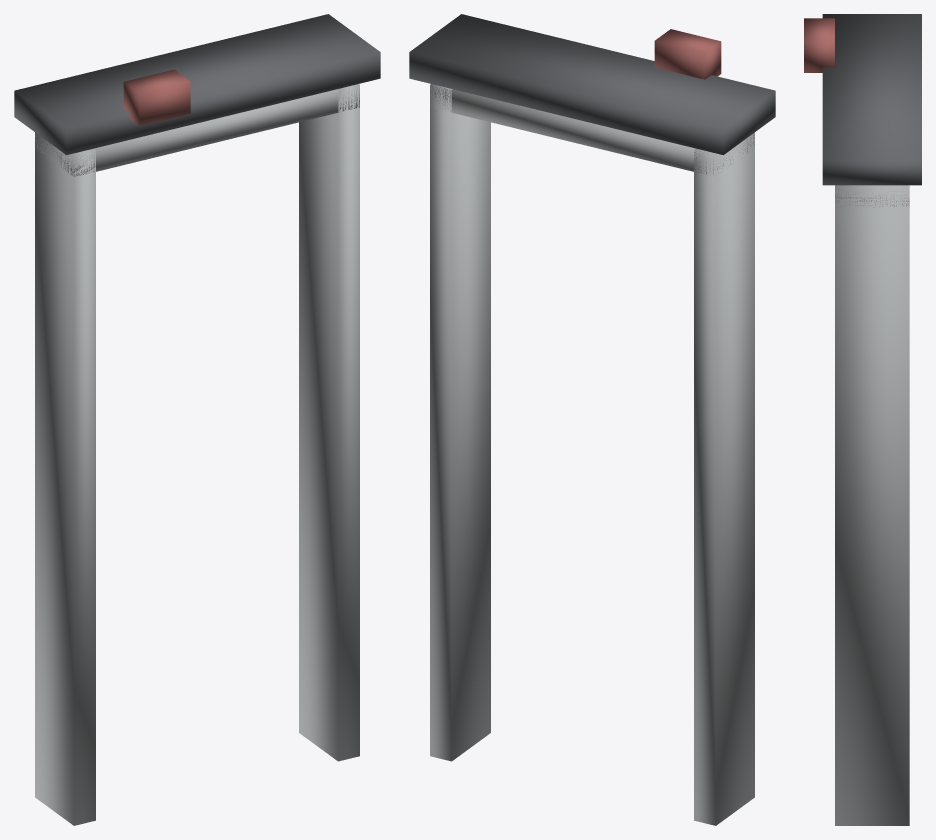
File: doorway_fire_rated_w86_h220_d24.glb
The picture shows the model from 3 angles, left to right: view 1: azimuth 30°, elevation 25°; view 2: azimuth 150°, elevation 25°; view 3: azimuth 270°, elevation 25°; orthographic projection. The views are drawn at different scales.
Visible parts, largest first — view 1: world; view 2: world; view 3: world.
Boxes of the visible parts, box(x1,y1,x2,y2) form: world: box(14, 14, 380, 825); world: box(409, 14, 775, 825); world: box(804, 14, 921, 825).
Size of the model in its own units: 1.11 by 2.48 by 0.38.
